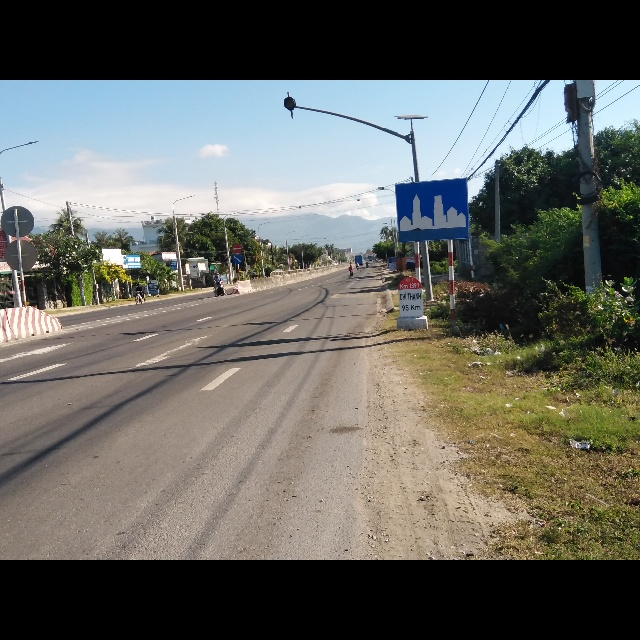Khu đông dân cư: (394, 177, 470, 241)
